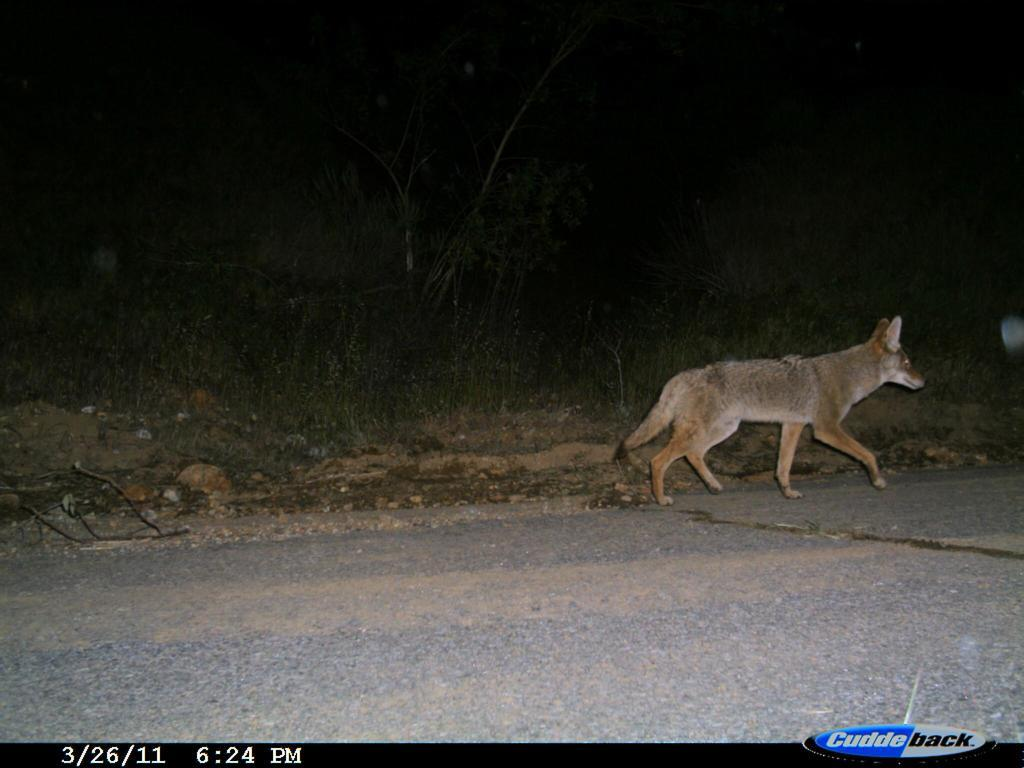coyote: (610, 310, 929, 510)
